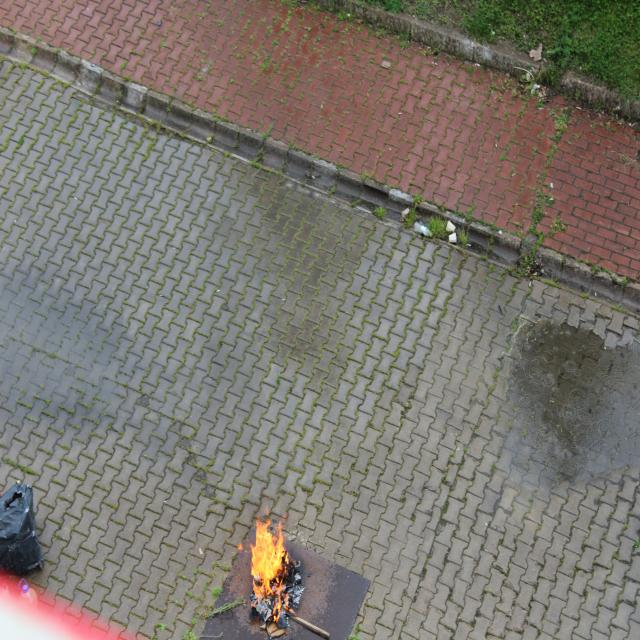fire: (250, 515, 290, 603)
